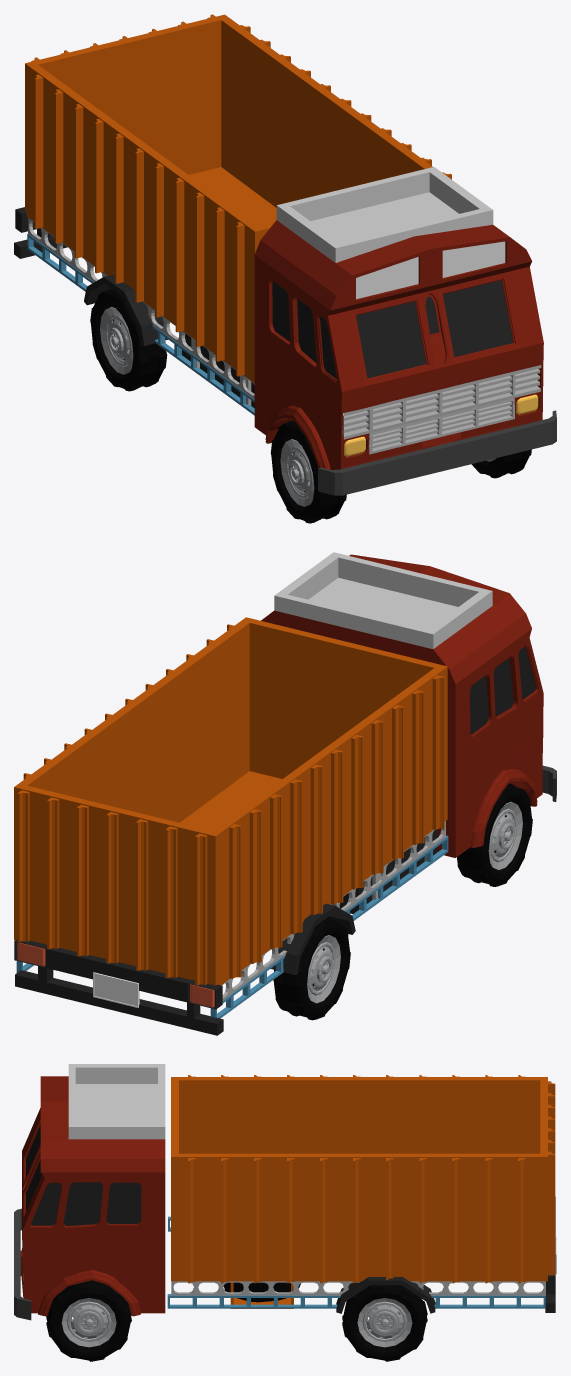
Rendered from Truck.fbx.
The picture shows the model from 3 angles, top to bottom: view 1: azimuth 30°, elevation 25°; view 2: azimuth 150°, elevation 25°; view 3: azimuth 270°, elevation 25°; orthographic projection. The views are drawn at different scales.
Visible parts, largest first — view 1: Body, Backright, Frontright, Frontleft; view 2: Body, Backright, Frontright; view 3: Body, Frontleft, Backleft.
Boxes of the visible parts, left/top/right/bottom form: Body: left=14, top=14, right=556, bottom=495; Backright: left=90, top=288, right=167, bottom=391; Frontright: left=270, top=421, right=346, bottom=523; Frontleft: left=471, top=449, right=531, bottom=478; Body: left=14, top=552, right=556, bottom=1035; Backright: left=273, top=917, right=350, bottom=1020; Frontright: left=457, top=783, right=532, bottom=886; Body: left=14, top=1064, right=556, bottom=1320; Frontleft: left=46, top=1280, right=131, bottom=1361; Backleft: left=342, top=1285, right=427, bottom=1361.
Size of the model in its own units: 210 by 232 by 506.
11 materials, 9 textured.
